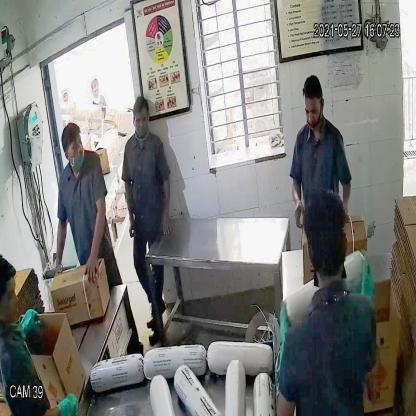no_goggles: (63, 133, 85, 158), (302, 99, 324, 122)
